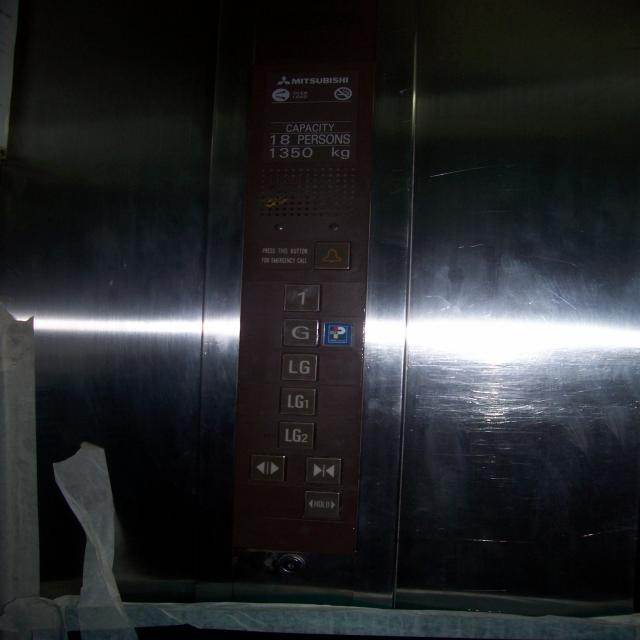1: (282, 283, 320, 313)
G: (281, 318, 320, 346)
LG: (279, 352, 318, 382)
LG1: (279, 386, 317, 416)
LG2: (277, 421, 315, 450)
alarm: (314, 241, 352, 270)
close: (304, 454, 342, 484)
keyhole: (277, 553, 307, 574)
open: (248, 453, 285, 481)
unknown: (303, 490, 340, 519)
